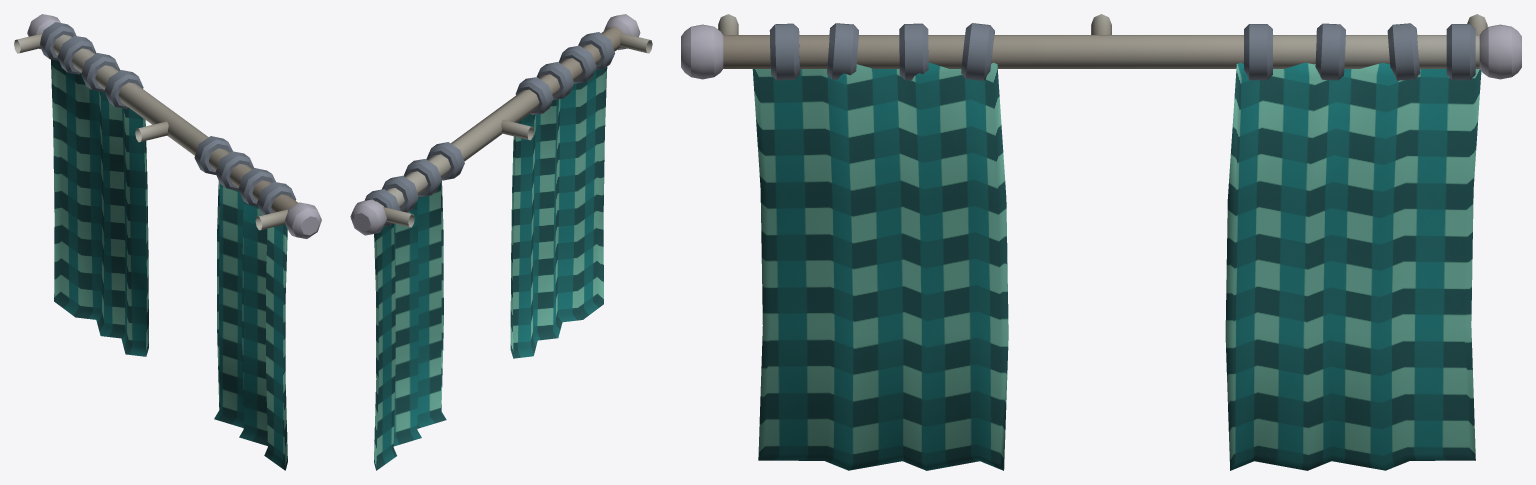
The model's file is Curtains_Long_2_B_D.glb.
3 views of the same model, side by side, from view 1: azimuth 30°, elevation 25°; view 2: azimuth 150°, elevation 25°; view 3: azimuth 270°, elevation 25° (orthographic). The views are drawn at different scales.
Visible parts, largest first — view 1: Curtains_Long_2_B_D; view 2: Curtains_Long_2_B_D; view 3: Curtains_Long_2_B_D.
Boxes of the visible parts, x1,y1,x2,y2 form: Curtains_Long_2_B_D: (14, 14, 321, 470); Curtains_Long_2_B_D: (350, 14, 652, 470); Curtains_Long_2_B_D: (681, 14, 1521, 470).
Size of the model in its own units: 0.2288 by 1.16 by 2.02.
Materials: 2 (2 with a texture image).
